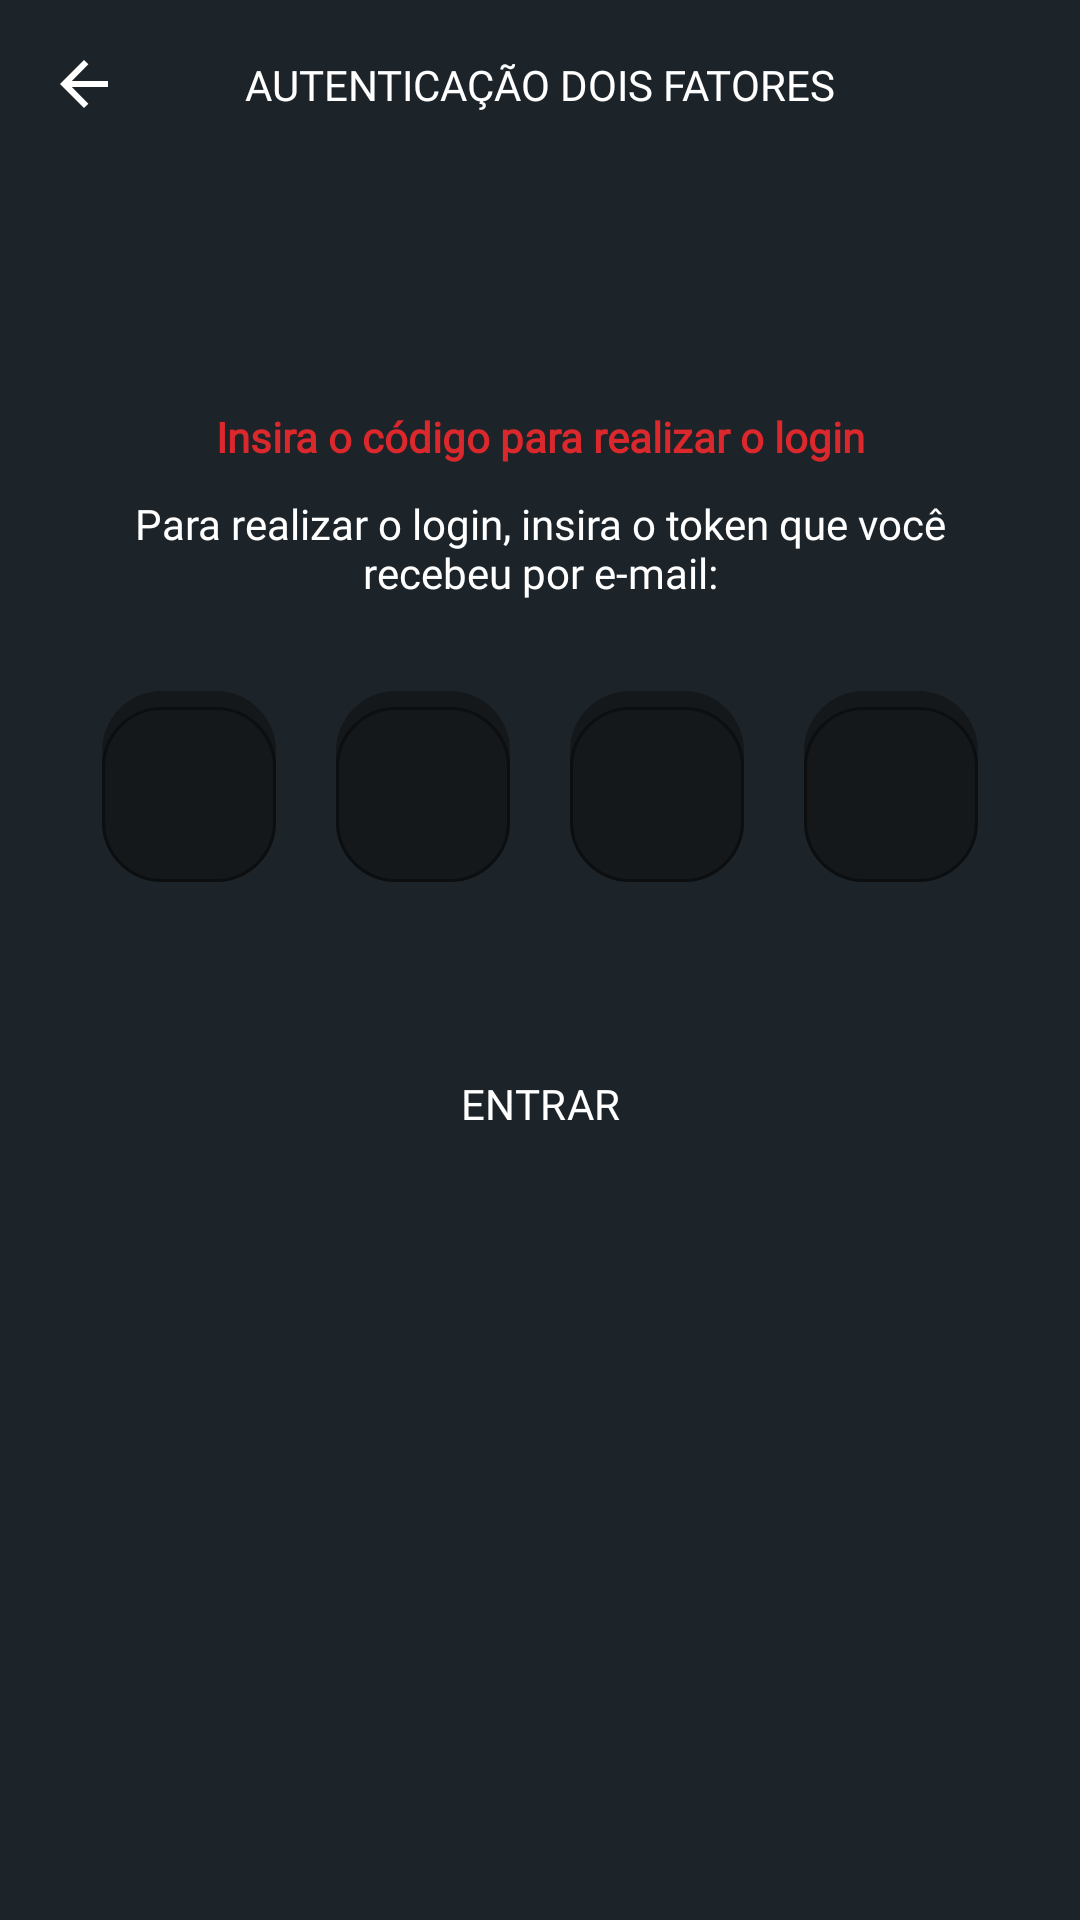

Where icons sit on this 1080w x 1920h app screen, as [left=x1, top=y1, right=x2, bottom=y2]:
left arrow: [left=60, top=60, right=108, bottom=108]
